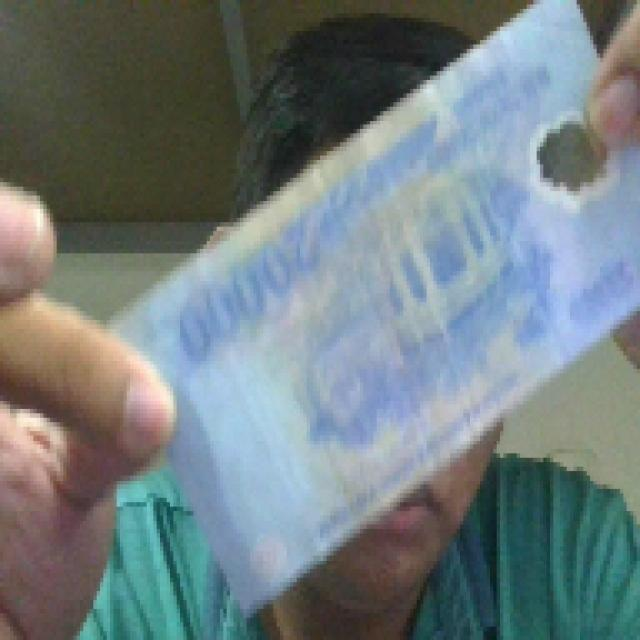20 000 VND: (96, 0, 636, 622)
